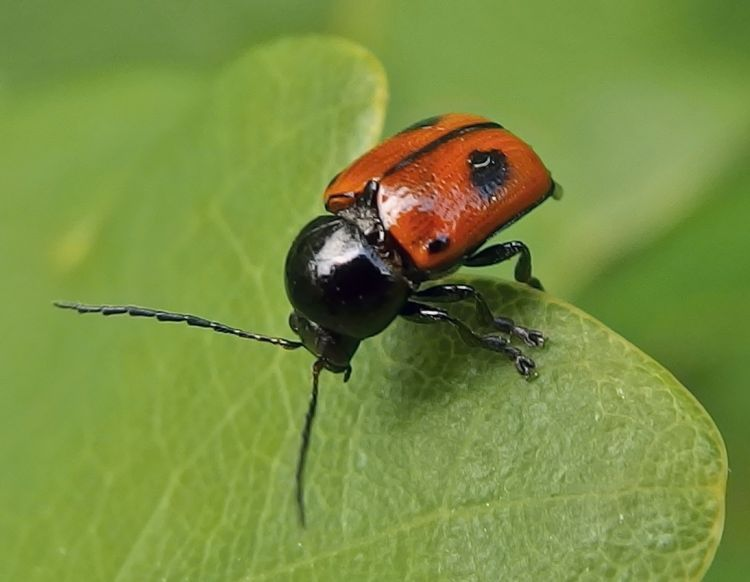Cryptocephalus_bipunctatus: (44, 107, 568, 530)
